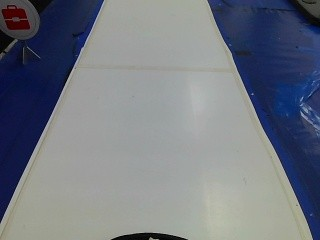company: (0, 0, 40, 41)
